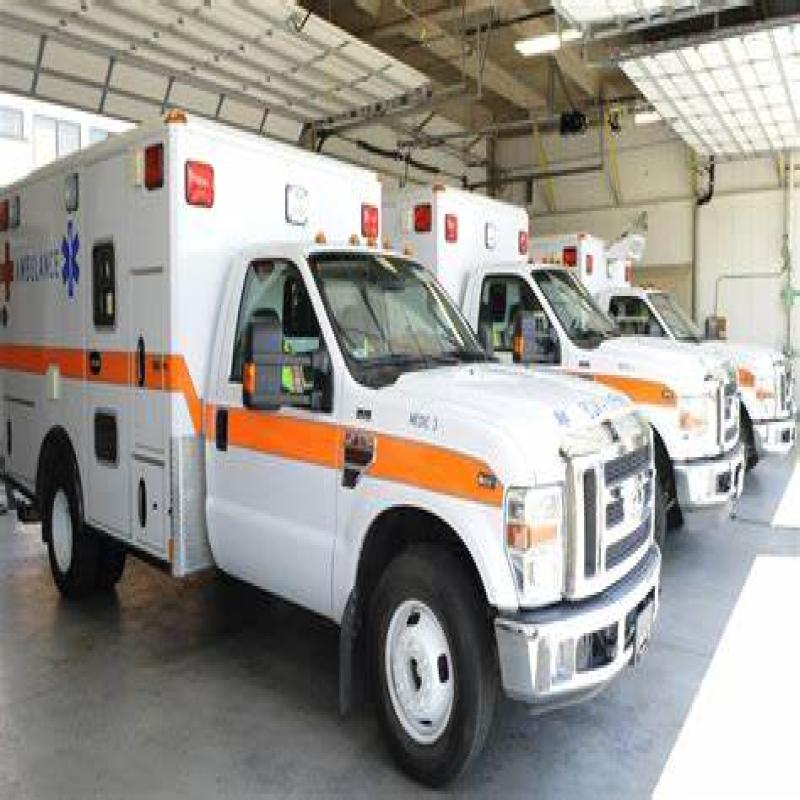AmbulanceSiren: (184, 154, 222, 228), (276, 174, 316, 234), (360, 197, 384, 249)
